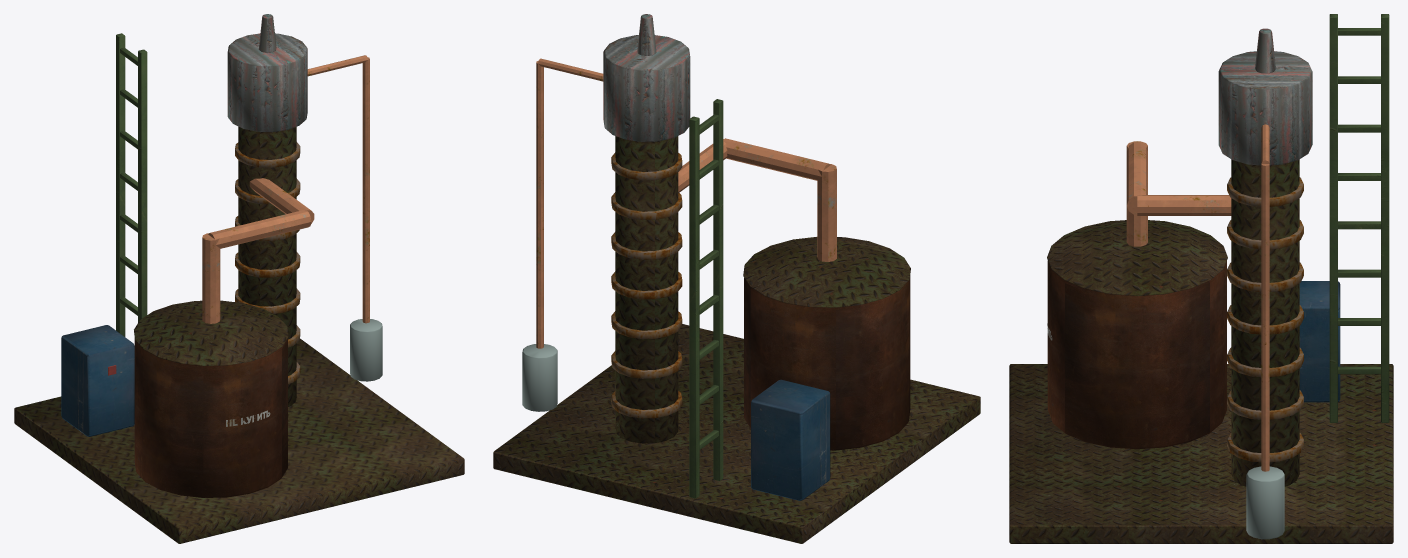
Rendered from deploy_rectifier.glb.
3 views of the same model, side by side, from view 1: azimuth 30°, elevation 25°; view 2: azimuth 150°, elevation 25°; view 3: azimuth 270°, elevation 25° (orthographic). The views are drawn at different scales.
Visible parts, largest first — view 1: box, cyl, cyl.002, cyl.001, box.011, cyl.010, box.002, box.001, cyl.016, cyl.017, cyl.013, cyl.012 (+4 smaller); view 2: box, cyl, cyl.002, cyl.001, box.011, cyl.010, box.002, box.001, cyl.017, cyl.016, cyl.013, cyl.012 (+9 smaller); view 3: box, cyl, cyl.002, cyl.001, cyl.010, box.011, box.001, box.002, cyl.016, cyl.017, cyl.014, cyl.013 (+9 smaller).
Boxes of the visible parts, x1,y1,x2,y2 form: box: [14, 338, 464, 543]; cyl: [134, 338, 287, 497]; cyl.002: [238, 126, 296, 406]; cyl.001: [134, 300, 288, 365]; box.011: [61, 325, 134, 436]; cyl.010: [227, 33, 307, 132]; box.002: [116, 33, 125, 336]; box.001: [138, 49, 147, 322]; cyl.016: [362, 57, 369, 323]; cyl.017: [350, 319, 382, 381]; cyl.013: [208, 210, 311, 248]; cyl.012: [202, 233, 220, 323]; box: [493, 324, 980, 543]; cyl: [744, 276, 910, 450]; cyl.002: [615, 136, 678, 443]; cyl.001: [743, 237, 910, 307]; box.011: [751, 379, 830, 500]; cyl.010: [603, 35, 690, 141]; box.002: [689, 116, 699, 498]; box.001: [713, 99, 723, 480]; cyl.017: [522, 344, 557, 411]; cyl.016: [536, 61, 543, 348]; cyl.013: [724, 138, 830, 180]; cyl.012: [817, 164, 836, 261]; box: [1009, 364, 1393, 543]; cyl: [1047, 261, 1226, 449]; cyl.002: [1231, 159, 1299, 486]; cyl.001: [1047, 220, 1227, 295]; cyl.010: [1218, 51, 1312, 165]; box.011: [1299, 281, 1340, 402]; box.001: [1329, 14, 1337, 422]; box.002: [1381, 14, 1389, 422]; cyl.016: [1261, 164, 1269, 471]; cyl.017: [1246, 466, 1284, 539]; cyl.014: [1137, 195, 1231, 215]; cyl.013: [1126, 142, 1147, 214].
Bounding box in the file's own units: 1.96 × 2.4 × 1.8.
Materials: 10 (9 with a texture image).
